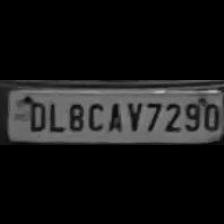0: (200, 99, 220, 131)
2: (160, 99, 180, 134)
7: (142, 97, 160, 132)
8: (65, 98, 85, 132)
9: (180, 97, 200, 132)
A: (104, 97, 124, 132)
C: (85, 97, 105, 132)
D: (24, 96, 46, 132)
L: (44, 97, 64, 132)
V: (123, 97, 143, 132)
